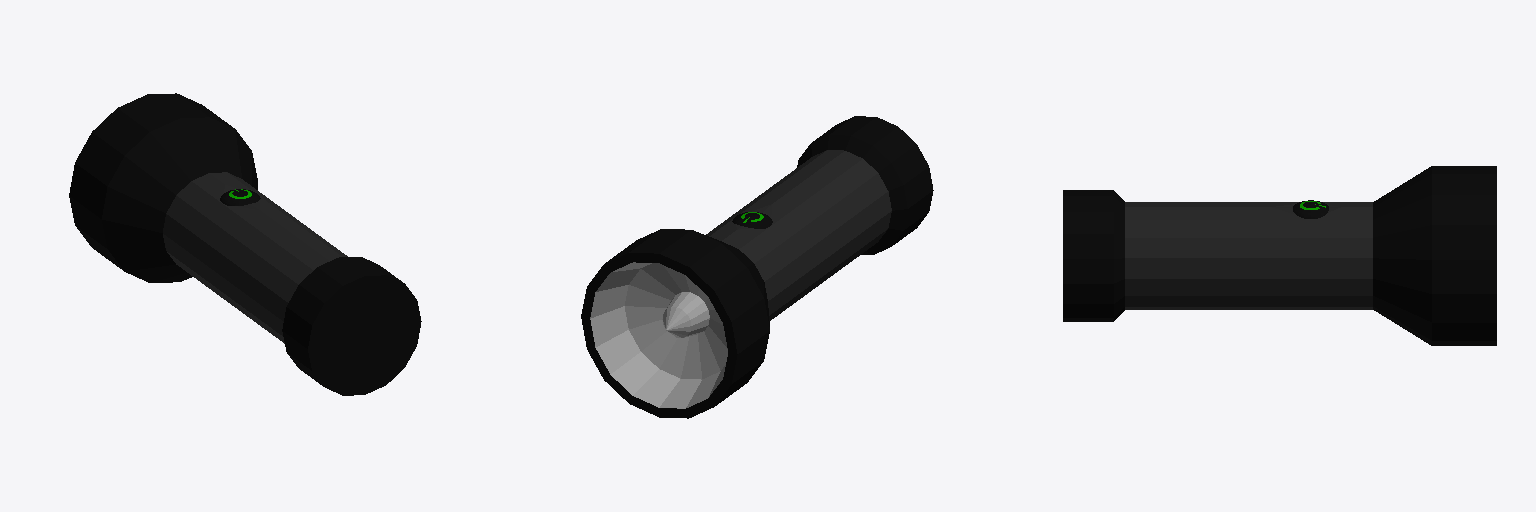
File: flashlight.obj
3 renders of one model, left to right at view 1: azimuth 30°, elevation 25°; view 2: azimuth 150°, elevation 25°; view 3: azimuth 270°, elevation 25°, orthographic.
Visible parts, largest first — view 1: Cylinder, Cylinder.001; view 2: Cylinder; view 3: Cylinder, Cylinder.001.
Part boxes in pixels (x1,y1,x2,y2): Cylinder: (69, 93, 421, 395); Cylinder.001: (220, 189, 260, 205); Cylinder: (581, 116, 933, 418); Cylinder: (1063, 166, 1496, 345); Cylinder.001: (1293, 200, 1328, 218).
Size of the model in its own units: 6.05 by 6.05 by 14.55.